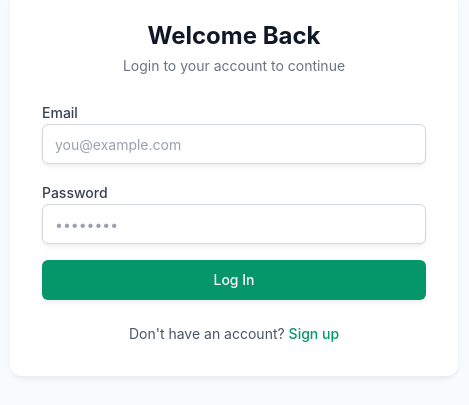
Test: Login › shows validation error for invalid email
Type "not-an-email" into the field labelled "Email".
click(234, 144); type("not-an-email")  # box left=42, top=124, right=426, bottom=164
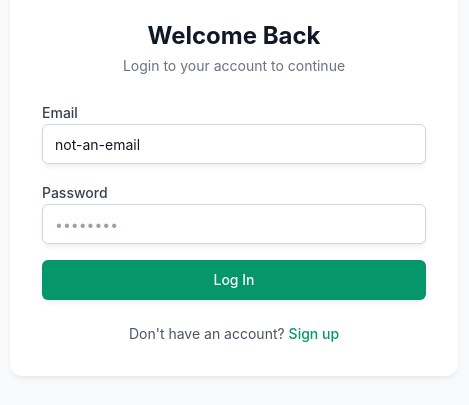
Type "123456" into the password field labelled "Password".
click(234, 224); type("123456")  # box left=42, top=204, right=426, bottom=244
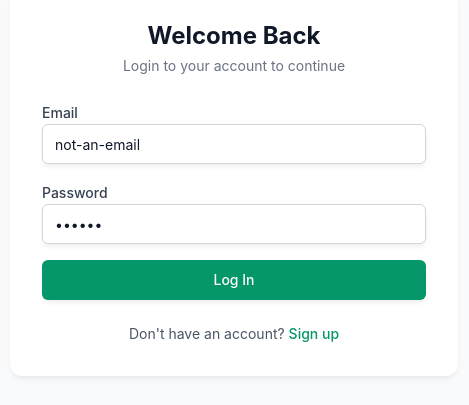
Submit the form "Email Password Log In", box left=42, top=100, right=426, bottom=300
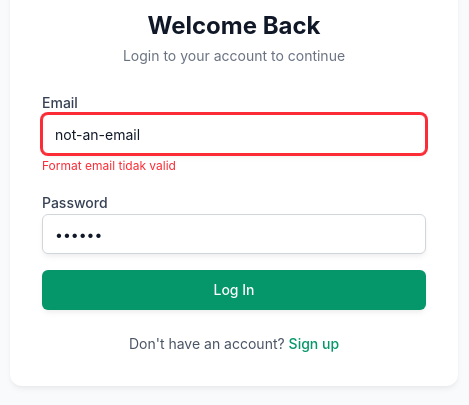
expect the text "Format email tidak valid" is shown: met, box left=42, top=158, right=176, bottom=173
